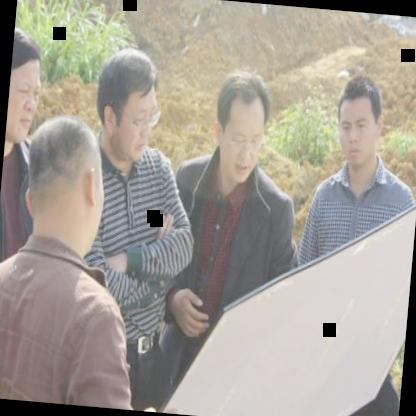head: (16, 110, 112, 260), (207, 63, 277, 188), (94, 44, 166, 164), (330, 68, 390, 176), (5, 24, 48, 145)
